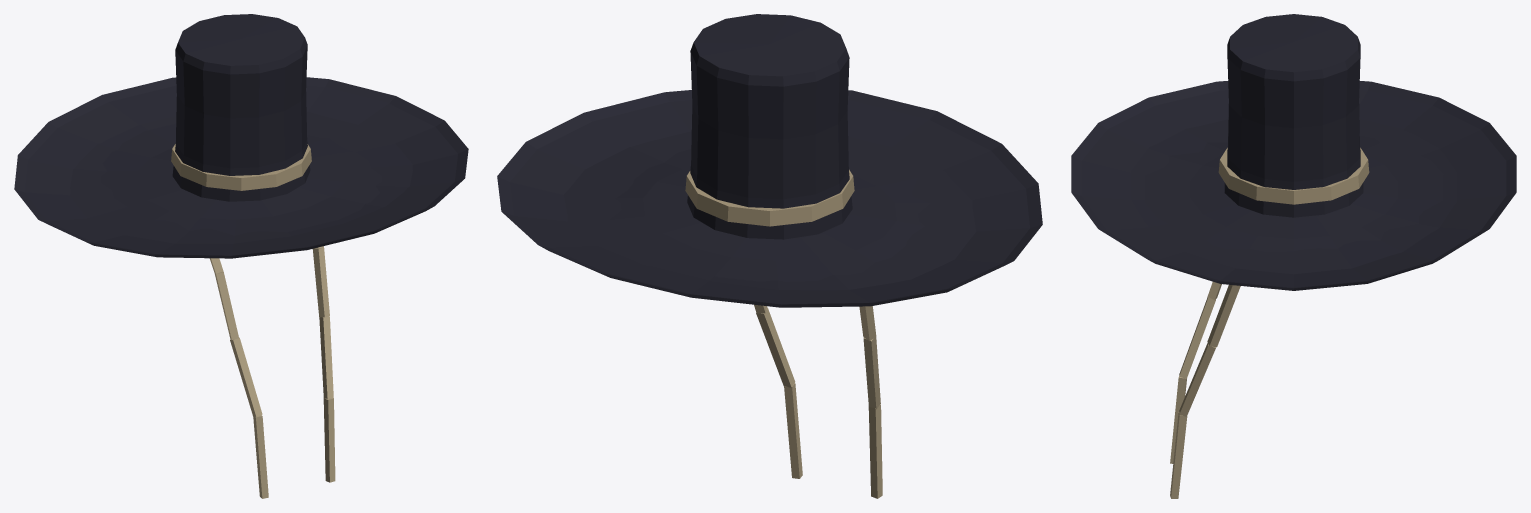
Rendered from gear_gat_t1.glb.
The picture shows the model from 3 angles, left to right: view 1: azimuth 30°, elevation 25°; view 2: azimuth 150°, elevation 25°; view 3: azimuth 270°, elevation 25°; orthographic projection. The views are drawn at different scales.
Parts seen in each view (by area): view 1: gear_gat_t1; view 2: gear_gat_t1; view 3: gear_gat_t1.
Part boxes in pixels (left/top/right/bottom): gear_gat_t1: left=14, top=14, right=468, bottom=498; gear_gat_t1: left=497, top=14, right=1042, bottom=498; gear_gat_t1: left=1071, top=14, right=1516, bottom=498.
Size of the model in its own units: 0.86 by 0.8278 by 0.7622.
